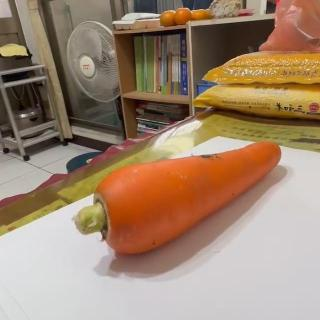carrot: (75, 140, 281, 256)
